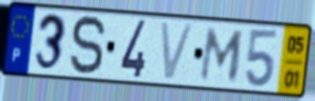3: (32, 11, 71, 75)
4: (119, 18, 148, 81)
5: (244, 28, 281, 90)
M: (198, 26, 247, 84)
S: (68, 13, 108, 77)
V: (158, 20, 197, 84)
